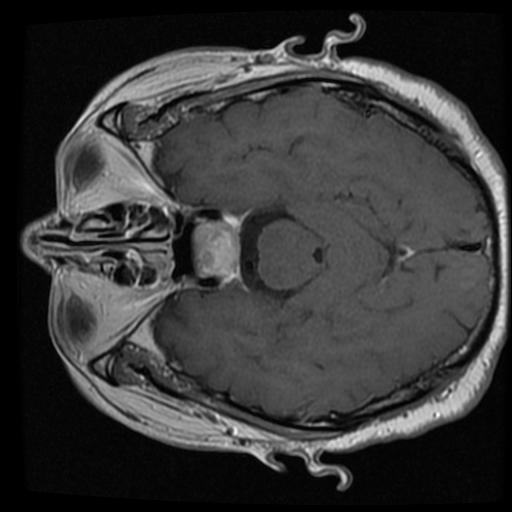pituitary tumour: (193, 221, 241, 278)
